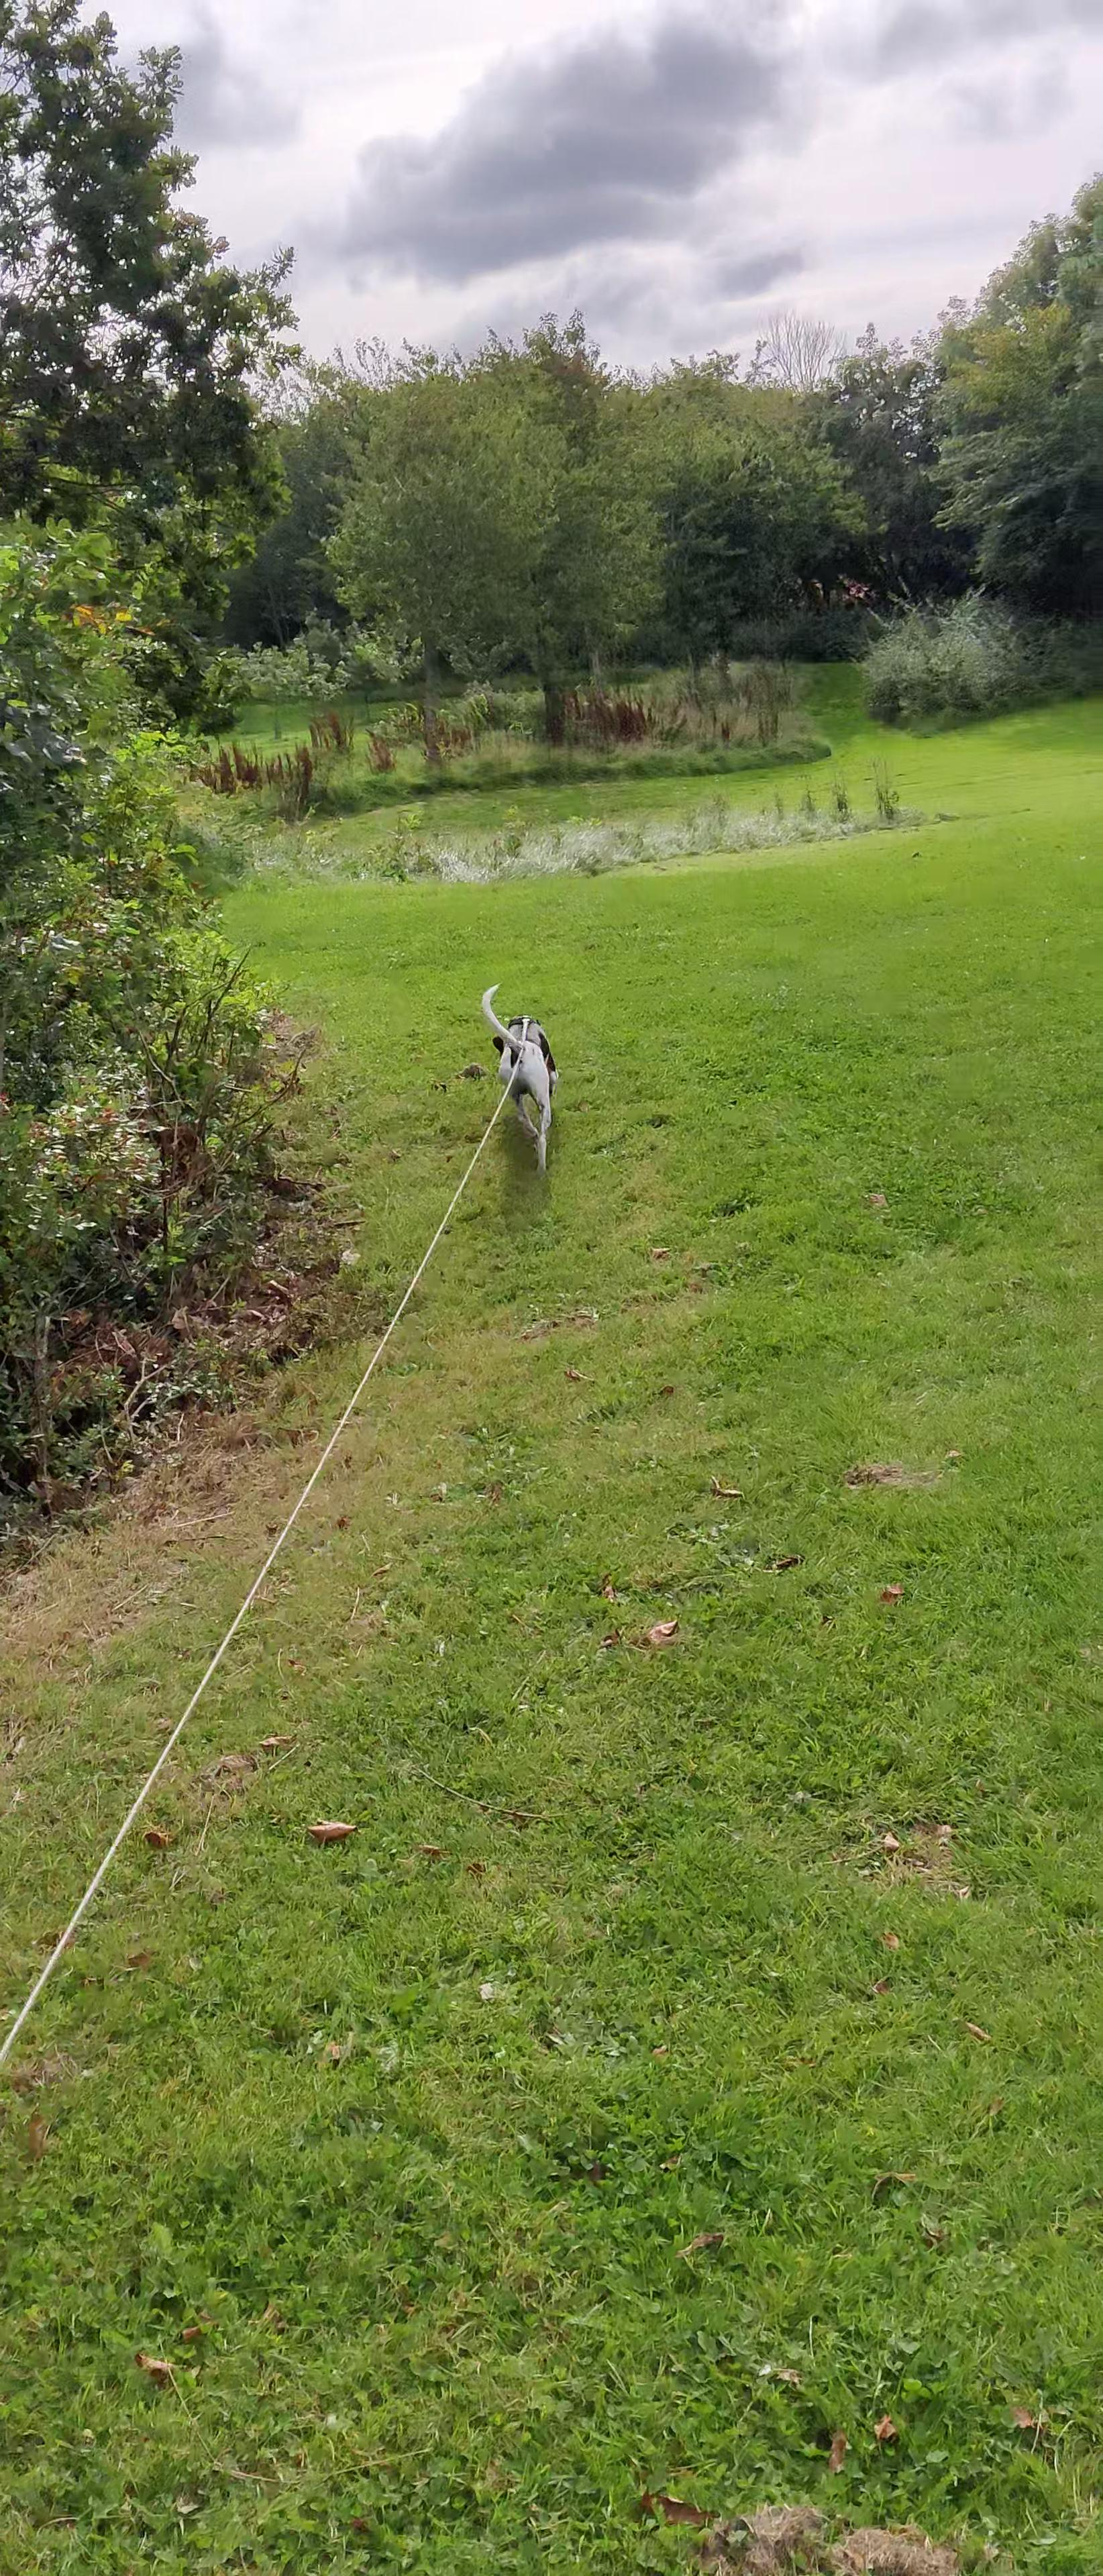Dog: (470, 973, 572, 1183)
